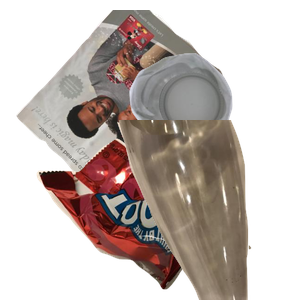glass: (115, 120, 300, 300)
paper: (14, 10, 229, 190)
plastic: (127, 51, 300, 197)
trash: (34, 136, 253, 300)
